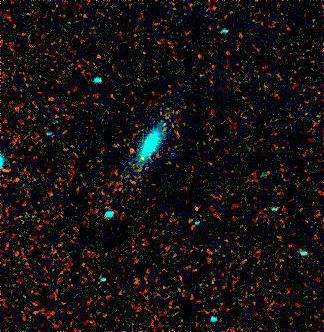star: (179, 193, 209, 223)
